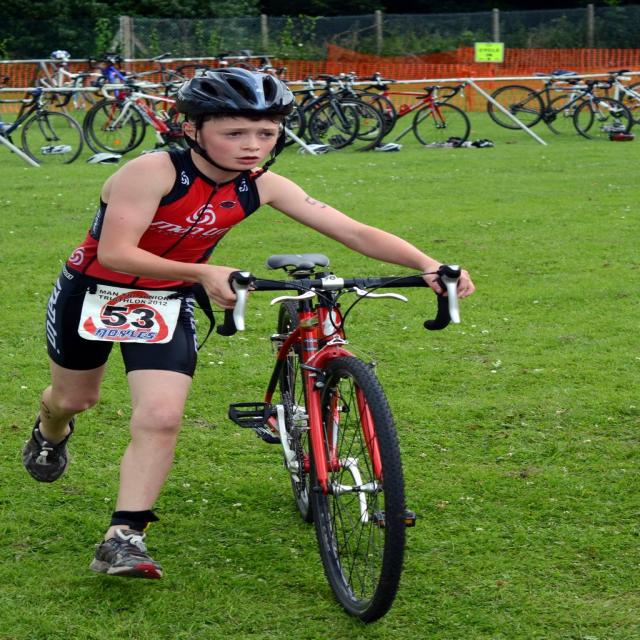Face: (183, 102, 295, 175)
